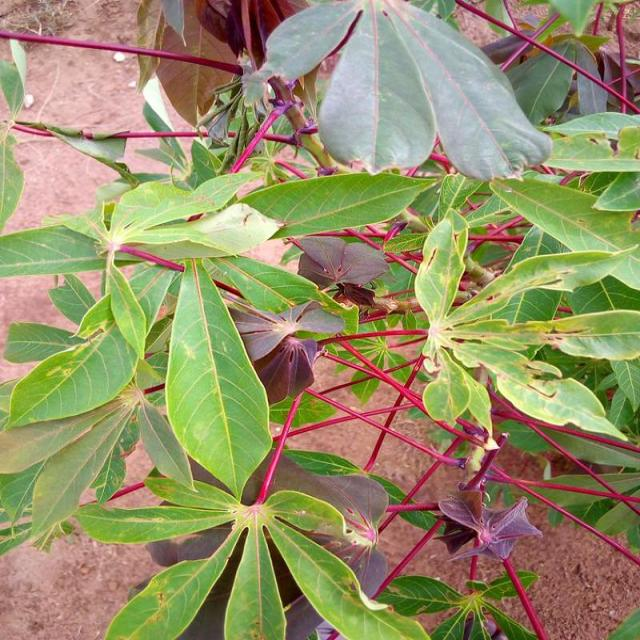cassava leaf: (242, 0, 553, 182), (163, 257, 273, 501)
